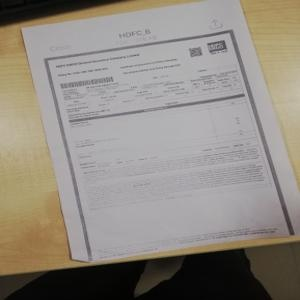image: (206, 36, 231, 58)
table: (57, 62, 246, 115)
